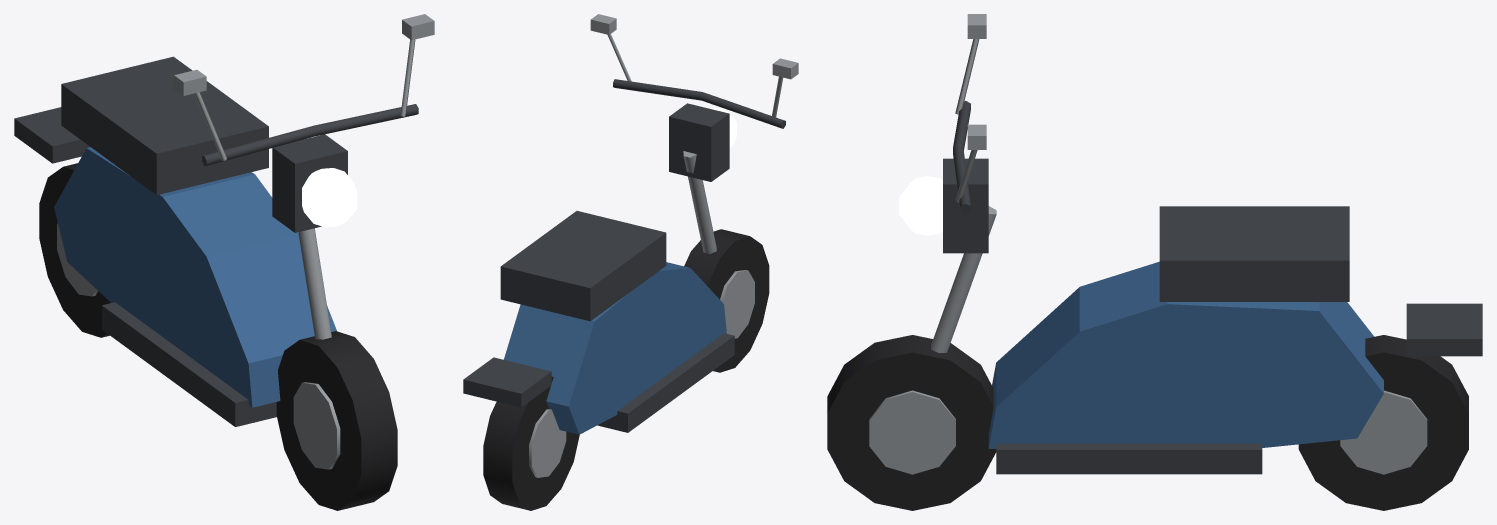
File: prop_street_scooter_a.glb
3 renders of one model, left to right at view 1: azimuth 30°, elevation 25°; view 2: azimuth 150°, elevation 25°; view 3: azimuth 270°, elevation 25°, orthographic. The views are drawn at different scales.
Parts seen in each view (by area): view 1: scooter_frame, scooter_body, scooter_wheels; view 2: scooter_frame, scooter_body, scooter_wheels; view 3: scooter_body, scooter_frame, scooter_wheels.
Part boxes in pixels (x1,y1,x2,y2): scooter_frame: (14, 14, 434, 426); scooter_body: (54, 147, 336, 407); scooter_wheels: (39, 163, 397, 510); scooter_frame: (463, 14, 798, 432); scooter_body: (503, 262, 726, 434); scooter_wheels: (483, 229, 769, 510); scooter_body: (988, 261, 1383, 448); scooter_frame: (899, 14, 1482, 474); scooter_wheels: (827, 335, 1468, 510).
Size of the model in its own units: 0.76 by 1.24 by 1.72.
